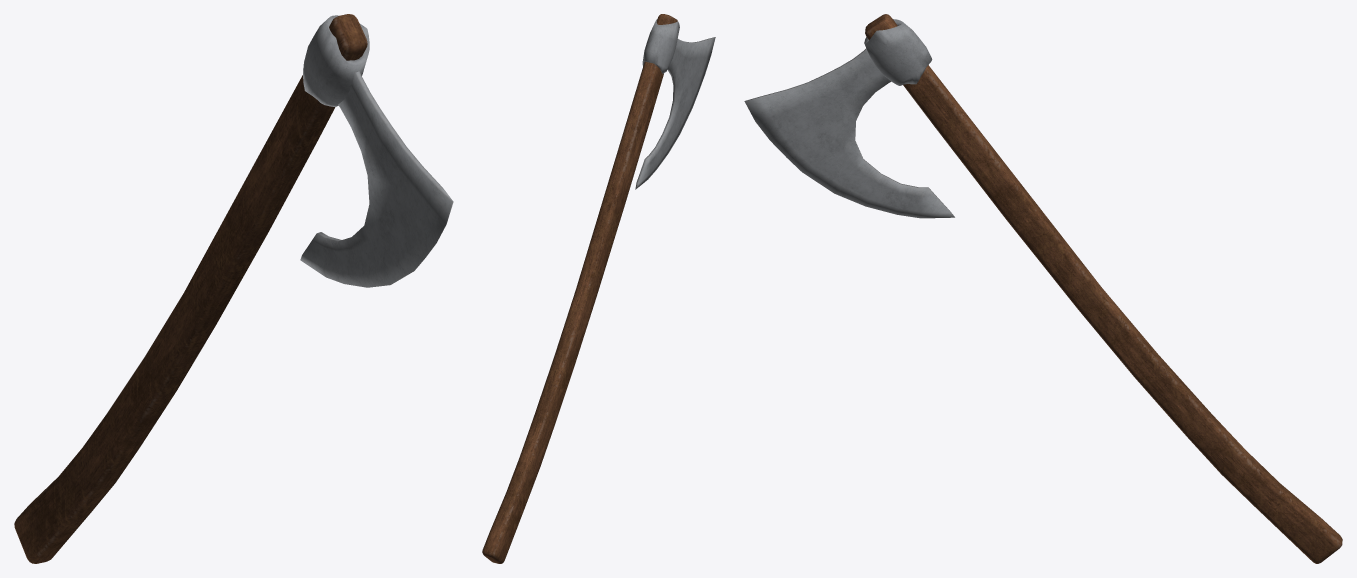
Rendered from axe_rival.glb.
3 views of the same model, side by side, from view 1: azimuth 30°, elevation 25°; view 2: azimuth 150°, elevation 25°; view 3: azimuth 270°, elevation 25° (orthographic). The views are drawn at different scales.
Visible parts, largest first — view 1: Axe; view 2: Axe; view 3: Axe.
Boxes of the visible parts, x1,y1,x2,y2 form: Axe: (14,14,453,563); Axe: (482,14,715,563); Axe: (744,14,1342,563).
Bounding box in the file's own units: 0.0449 × 0.8538 × 0.8482.
1 material, 1 textured.
